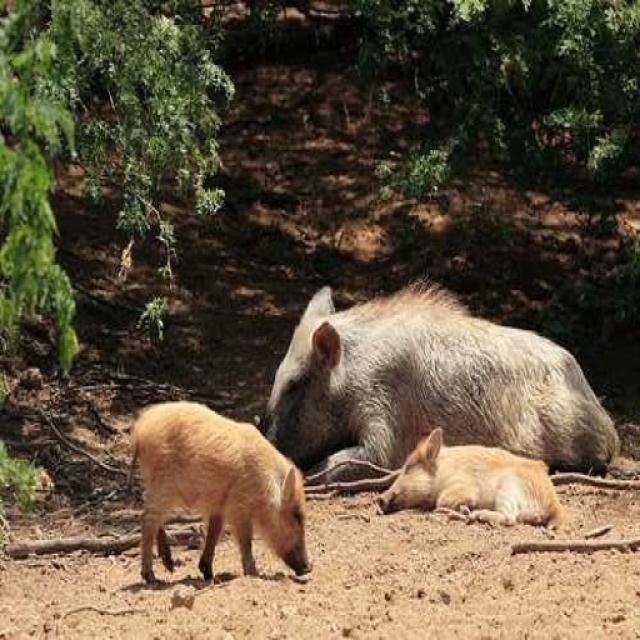pig: (261, 271, 640, 497), (124, 386, 334, 604), (376, 444, 571, 533)
